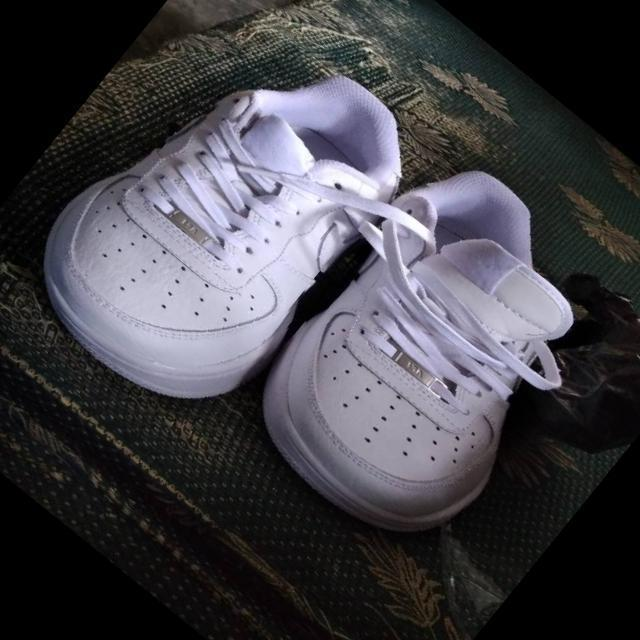nike fake air force: (1, 0, 445, 447), (223, 135, 640, 575), (54, 0, 446, 377)
